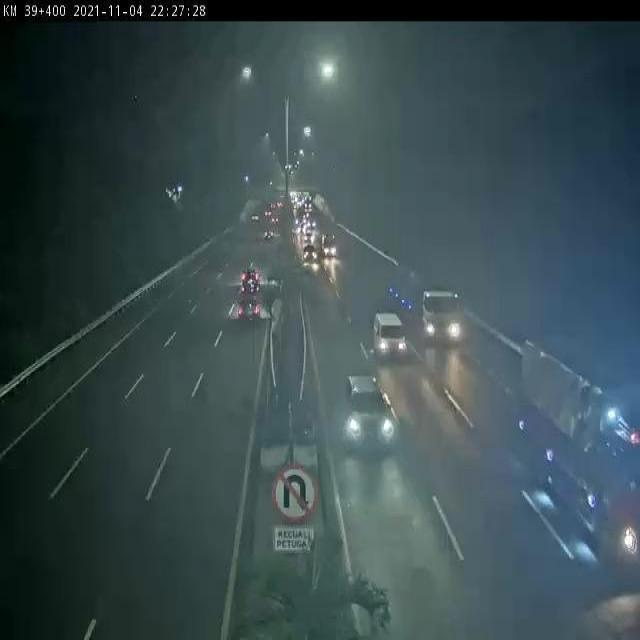car: (343, 372, 394, 451), (374, 311, 409, 360), (240, 265, 263, 295), (236, 297, 262, 323)
truck: (520, 336, 640, 561), (387, 264, 461, 344)
